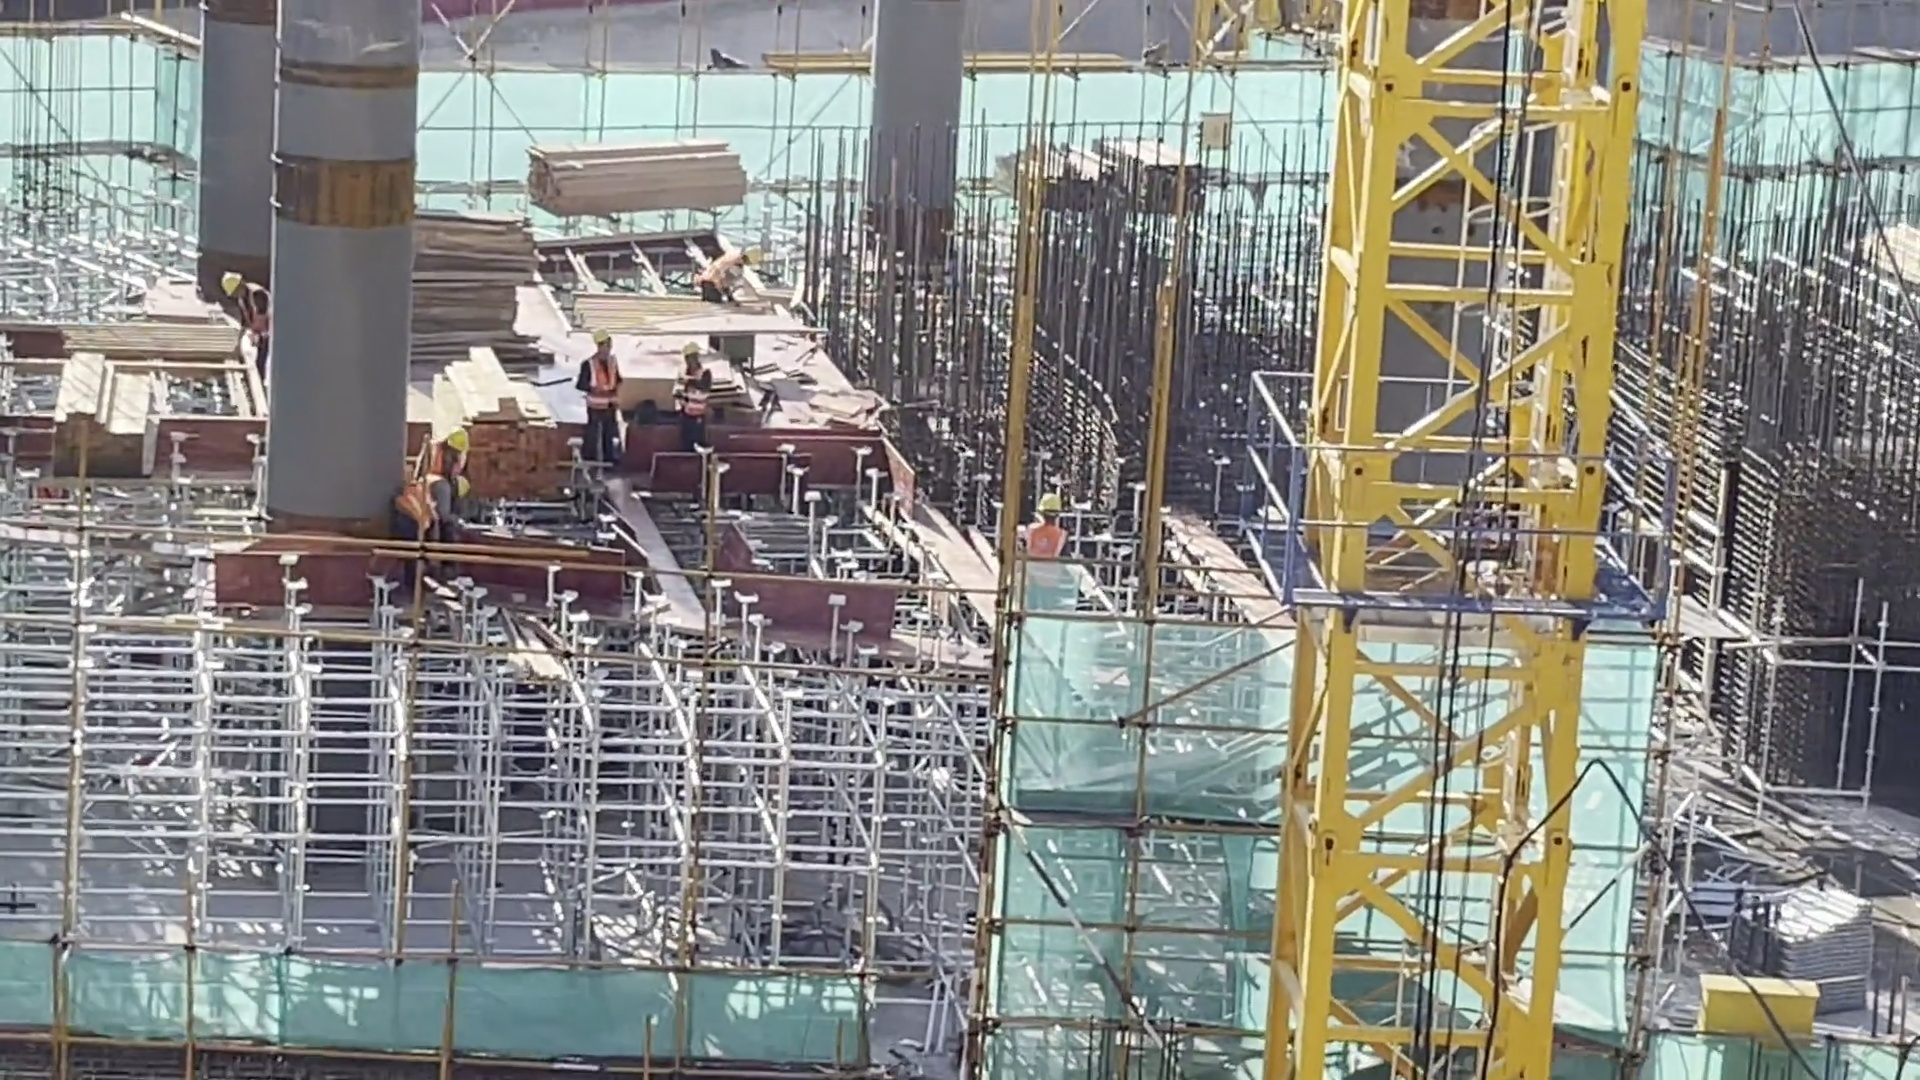cutter: (651, 310, 814, 373)
ebox: (1699, 973, 1820, 1045)
helmet: (441, 427, 469, 456), (222, 271, 242, 298), (1033, 493, 1060, 513), (453, 475, 472, 501), (590, 328, 610, 345), (682, 341, 701, 354)
person: (391, 470, 473, 551), (577, 327, 628, 460), (217, 265, 269, 374), (670, 342, 706, 452), (700, 243, 759, 307), (1020, 495, 1068, 563), (420, 430, 467, 480)
scaffold: (1726, 878, 1876, 1005)
vest: (400, 475, 442, 529), (701, 252, 746, 295), (587, 351, 617, 411), (1024, 523, 1065, 563), (674, 370, 706, 415), (242, 286, 270, 336)
wood: (410, 207, 558, 379), (427, 348, 568, 510), (519, 137, 749, 215), (45, 354, 162, 479)
